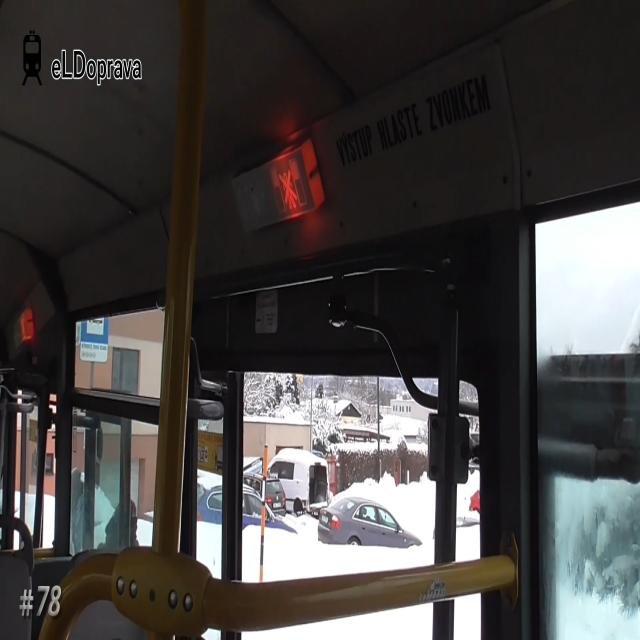bus-door: (190, 346, 486, 640)
